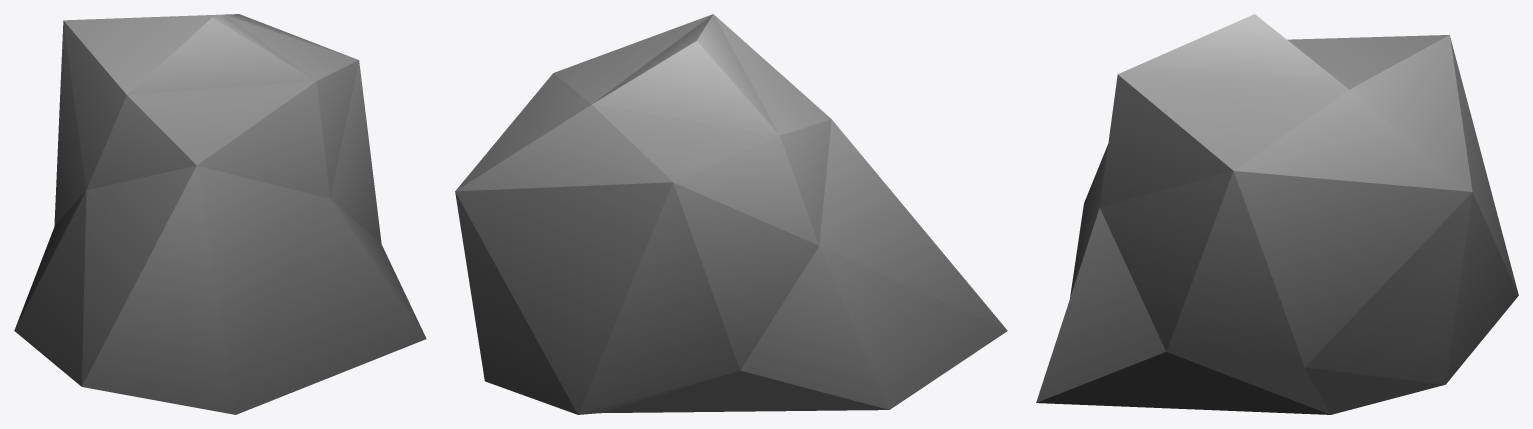
The model's file is Chunk1.FBX.
3 renders of one model, left to right at view 1: azimuth 30°, elevation 25°; view 2: azimuth 150°, elevation 25°; view 3: azimuth 270°, elevation 25°, orthographic. The views are drawn at different scales.
Visible parts, largest first — view 1: Chunk1; view 2: Chunk1; view 3: Chunk1.
Boxes of the visible parts, x1,y1,x2,y2 form: Chunk1: (14, 14, 426, 414); Chunk1: (455, 14, 1007, 414); Chunk1: (1036, 14, 1518, 414).
Size of the model in its own units: 17.18 by 14.86 by 17.54.
